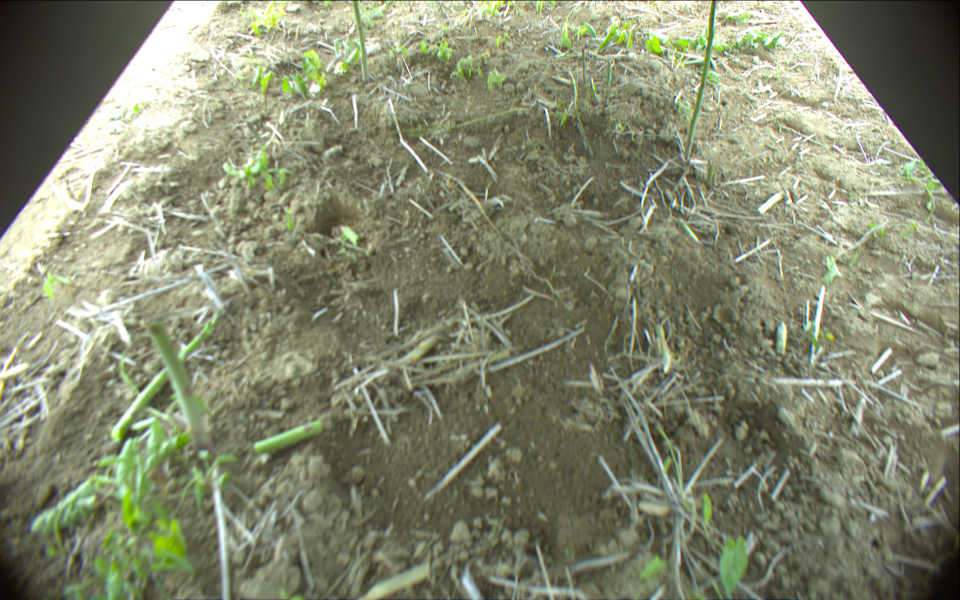aspa: (110, 313, 221, 443), (150, 324, 207, 447), (688, 1, 719, 154), (251, 420, 324, 459), (350, 1, 373, 82), (605, 61, 615, 97), (579, 48, 588, 83)
